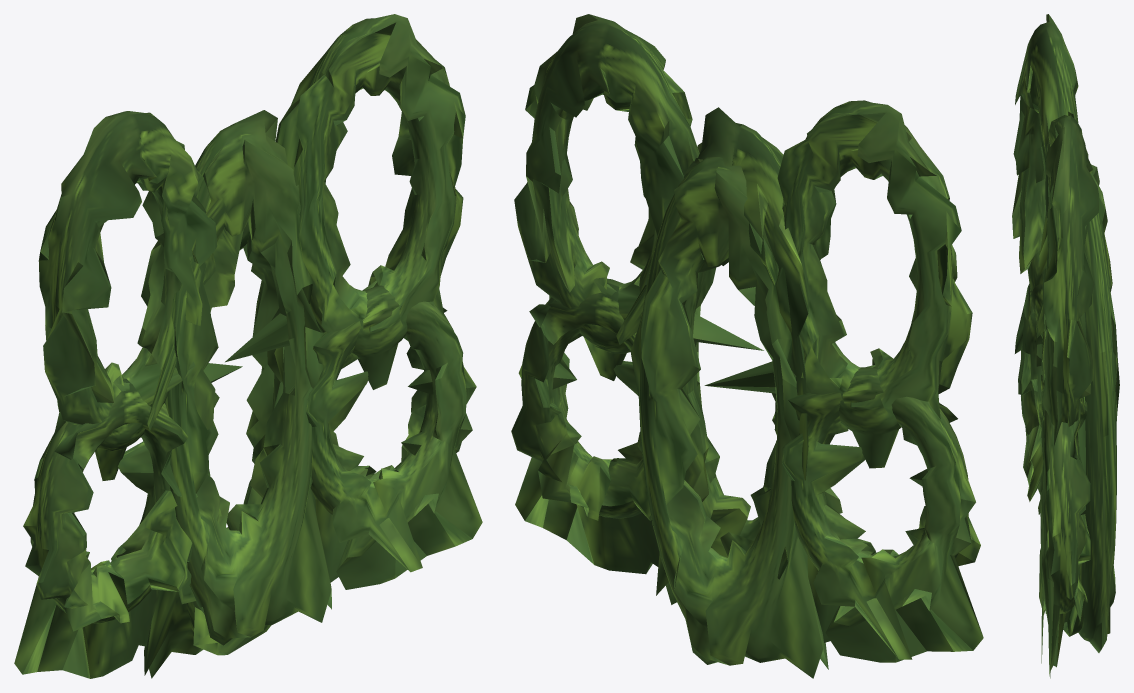
The model's file is double coral.fbx.
3 views of the same model, side by side, from view 1: azimuth 30°, elevation 25°; view 2: azimuth 150°, elevation 25°; view 3: azimuth 270°, elevation 25° (orthographic). The views are drawn at different scales.
Visible parts, largest first — view 1: Torus_1; view 2: Torus_1; view 3: Torus_1.
Part boxes in pixels (x1,y1,x2,y2): Torus_1: (14,14,482,678); Torus_1: (511,14,983,678); Torus_1: (1012,14,1119,678).
Bounding box in the file's own units: 1272 × 1580 × 262.
Materials: 1 (1 with a texture image).
